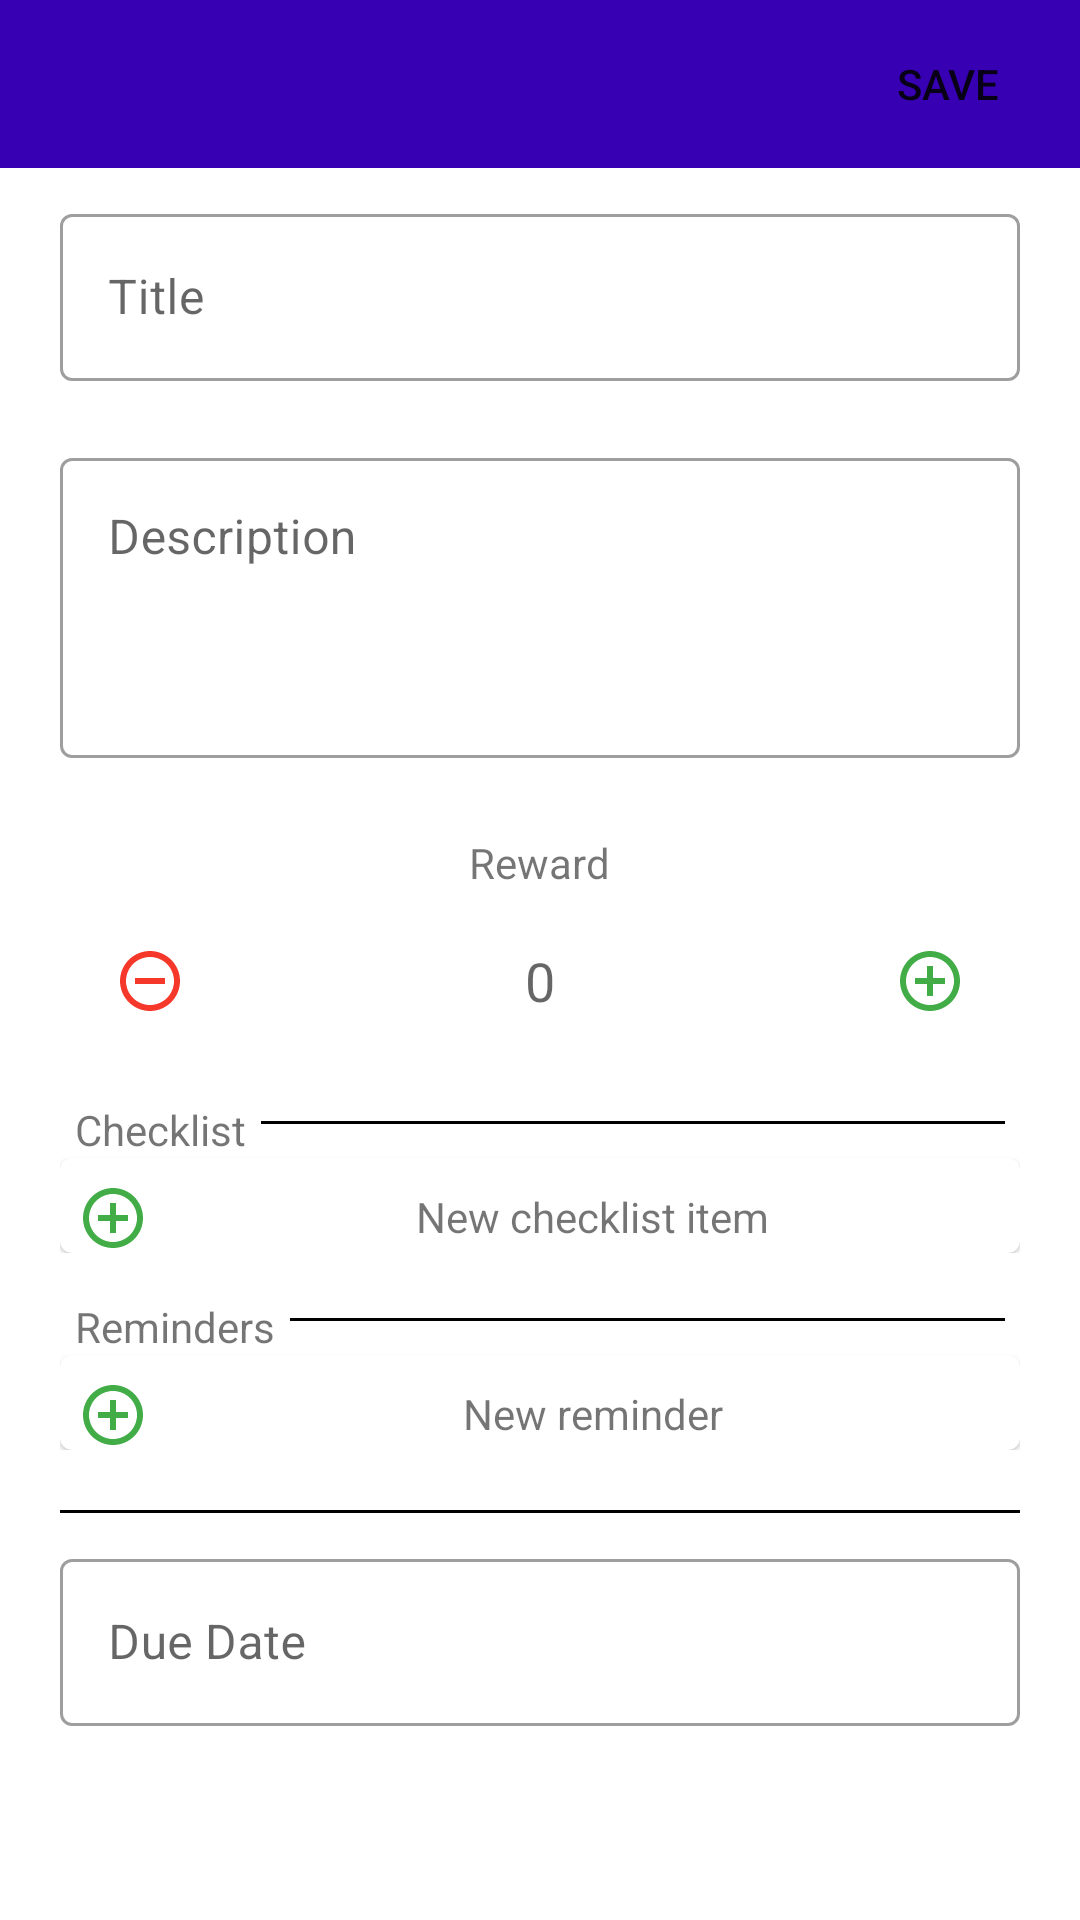

Icon bounding boxes for this 1080px x 1920px phone screenshot, format box(x1, y1, x2, y2):
minus: box(120, 951, 180, 1011)
